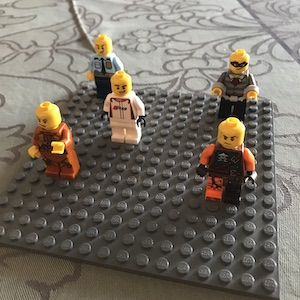Lego: (193, 117, 258, 209), (26, 99, 80, 186), (209, 48, 261, 122), (84, 33, 126, 107), (103, 70, 144, 145)
